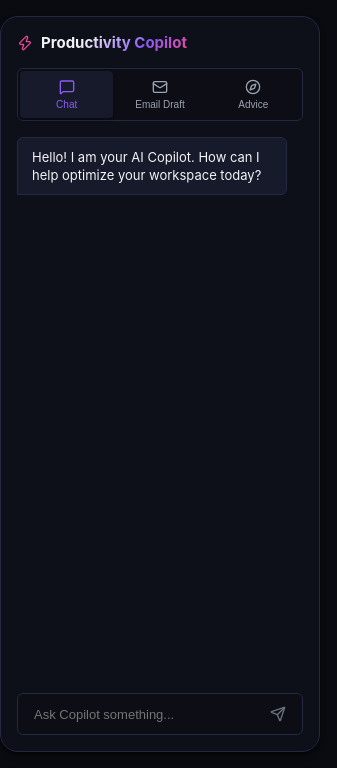
Test: CopilotPanel › generates an email draft successfully
# Click Email Draft tab
Click the button "Email Draft" at (160, 94), box [113,71,207,118]
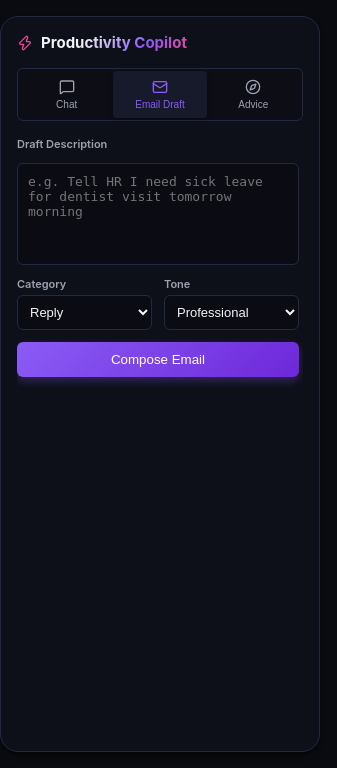
# Fill form
Replace the text in the text box with placeholder "HR" with "Draft a quick sick leave application" at (158, 214), box [17,163,299,265]
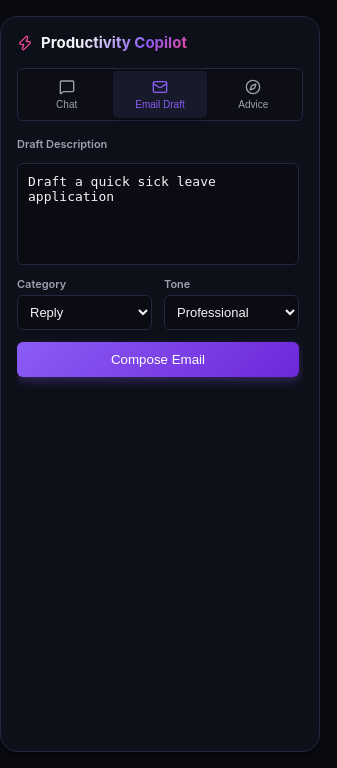
Click the button "Compose Email" at (158, 360), box [17,342,299,377]
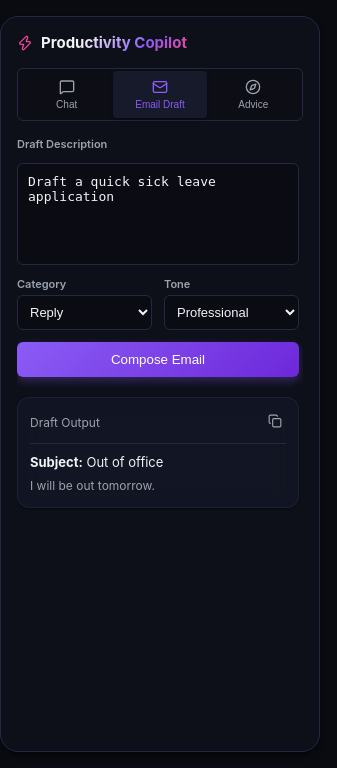
Expected: the text "Out of office" is shown, [86,454,163,470]
Expected: the text "I will be out tomorrow." is shown, [30,478,155,493]
